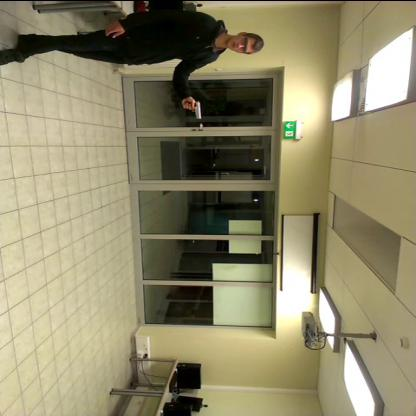Pistol: (173, 94, 209, 124)
